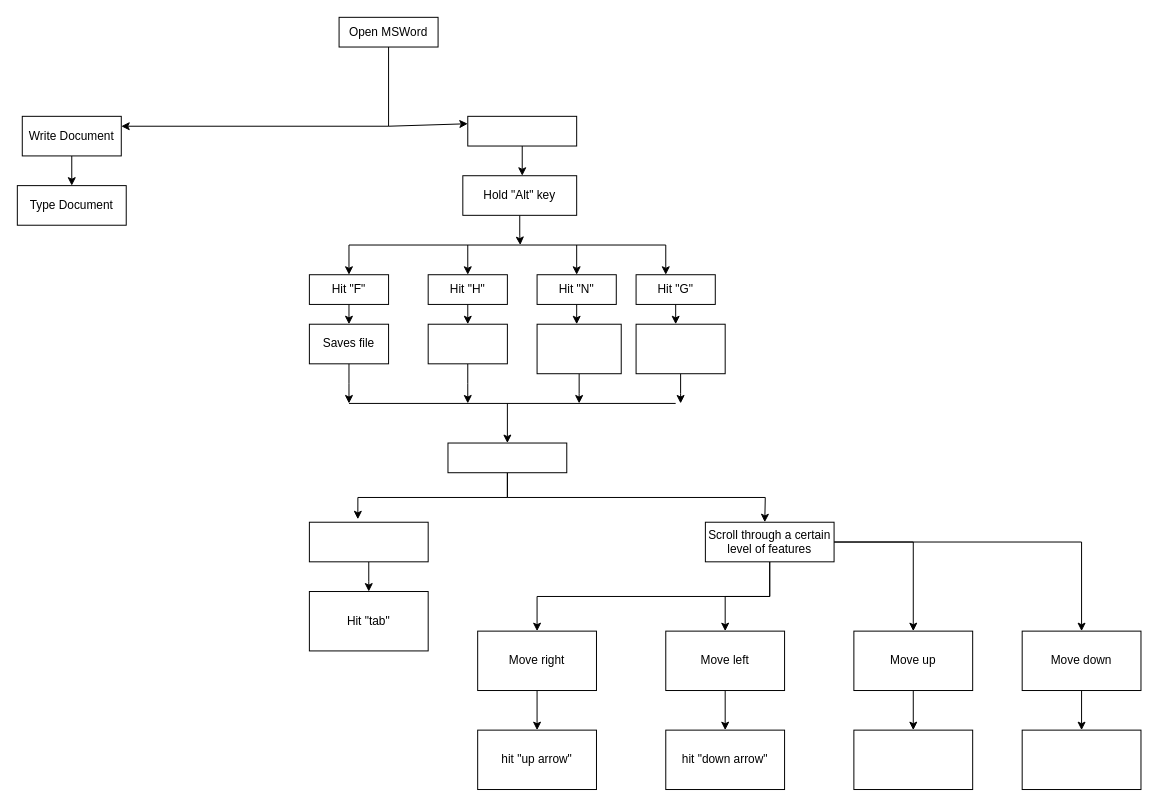
Image size: 1158x807. Some labels were removed from this diagram. The shapes that lost their labels are listed below. From the top down, each one's box as (x1, y1, x2, y2) in pixels, then its label:
(467, 115, 577, 146): Access Ribons
(427, 323, 507, 364): Opens Home menu
(536, 323, 621, 374): Opens Insert menu
(635, 323, 725, 374): Opens "Design" menu
(447, 442, 567, 473): Navigate
(308, 521, 428, 562): Move across various levels of features
(853, 729, 973, 790): hit "left arrow"
(1021, 729, 1141, 790): hit "right arrow"
